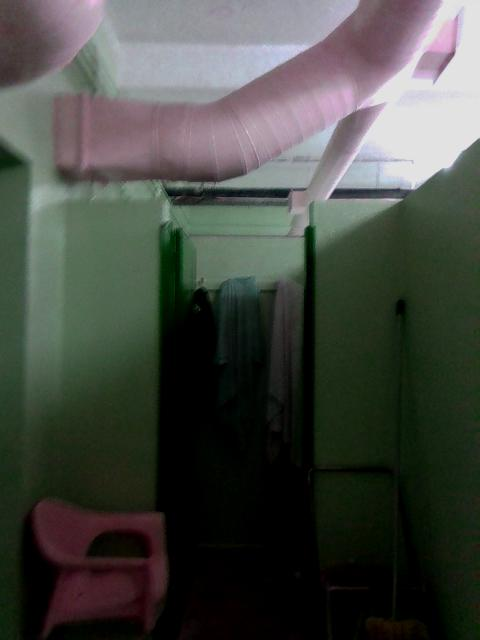open_door: (157, 194, 319, 639)
